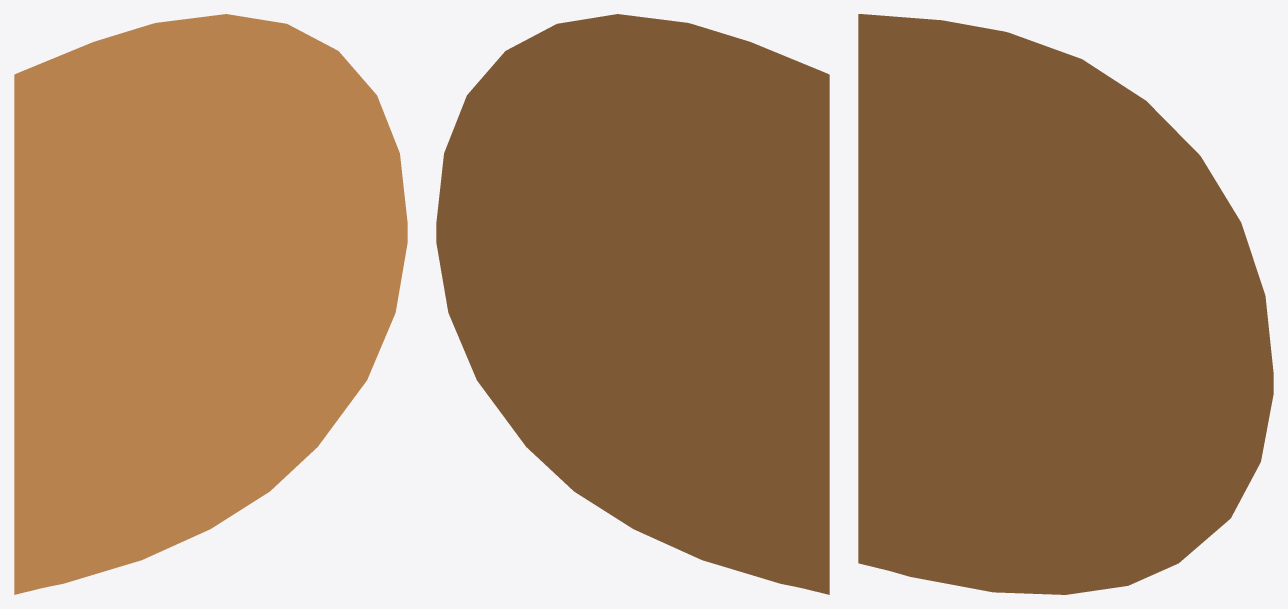
File: original-83.obj
3 renders of one model, left to right at view 1: azimuth 30°, elevation 25°; view 2: azimuth 150°, elevation 25°; view 3: azimuth 330°, elevation 25°, orthographic. The views are drawn at different scales.
Parts seen in each view (by area): view 1: Group_22/mesh147/mesh147-geometry#mesh147-geometry; view 2: Group_22/mesh147/mesh147-geometry#mesh147-geometry; view 3: Group_22/mesh147/mesh147-geometry#mesh147-geometry.
Part boxes in pixels (box(x1,y1,x2,y2)): Group_22/mesh147/mesh147-geometry#mesh147-geometry: box(14, 14, 407, 594); Group_22/mesh147/mesh147-geometry#mesh147-geometry: box(436, 14, 829, 594); Group_22/mesh147/mesh147-geometry#mesh147-geometry: box(858, 14, 1273, 594).
Size of the model in its own units: 0.00404 by 0.00528 by 0.
